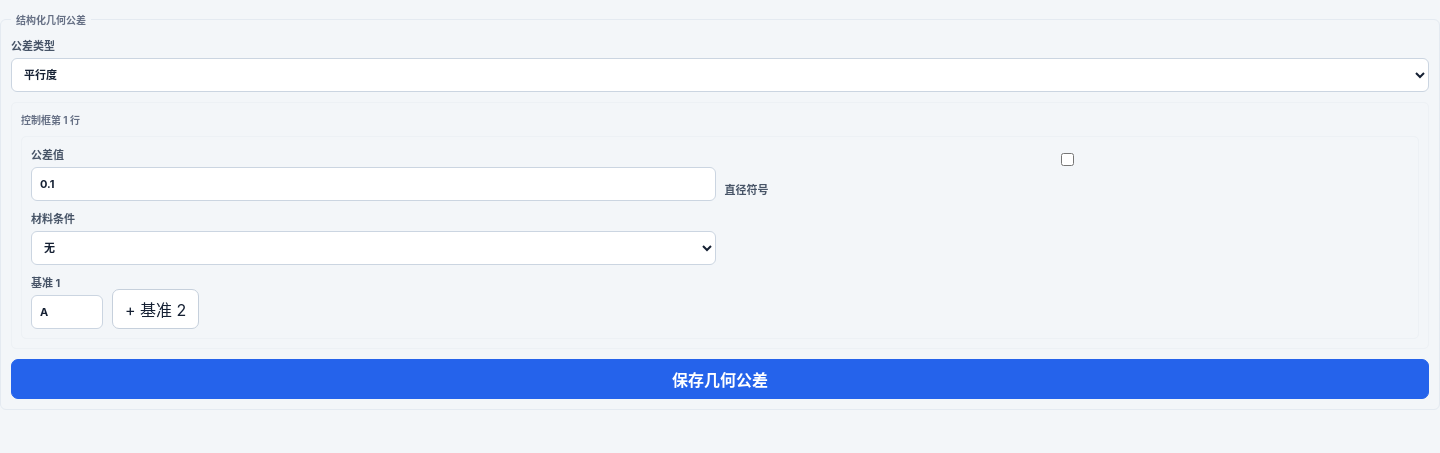
Test: rejects non-positive decimal before submitting
Replace the text in the field labelled "公差值" with "0" at [373, 184], box [31,167,716,201]
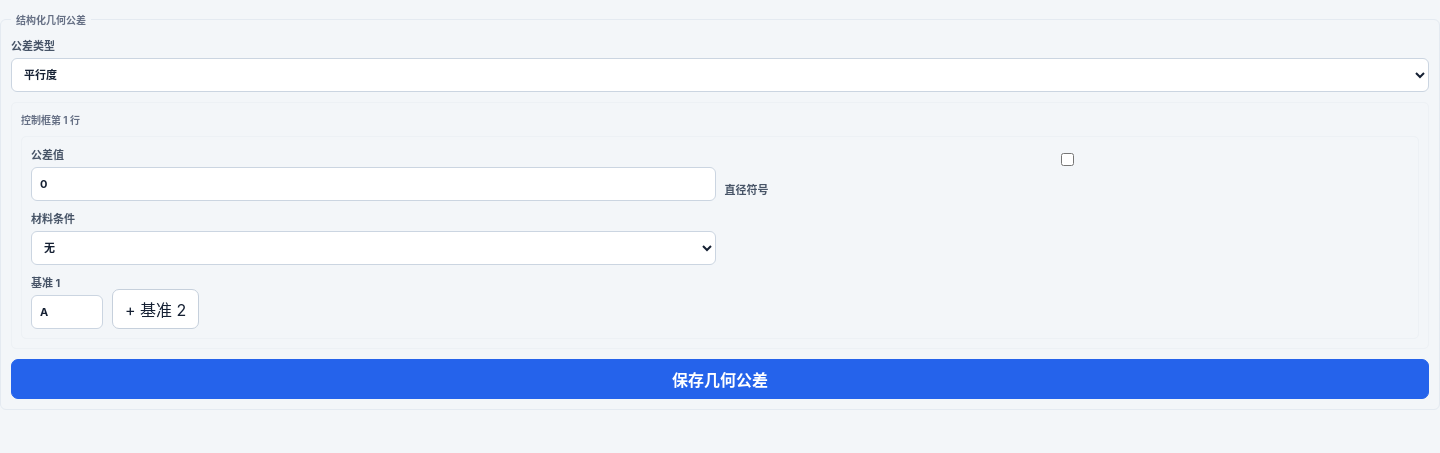
Click the button "保存几何公差".
click(720, 379)  # box [11,359,1429,399]
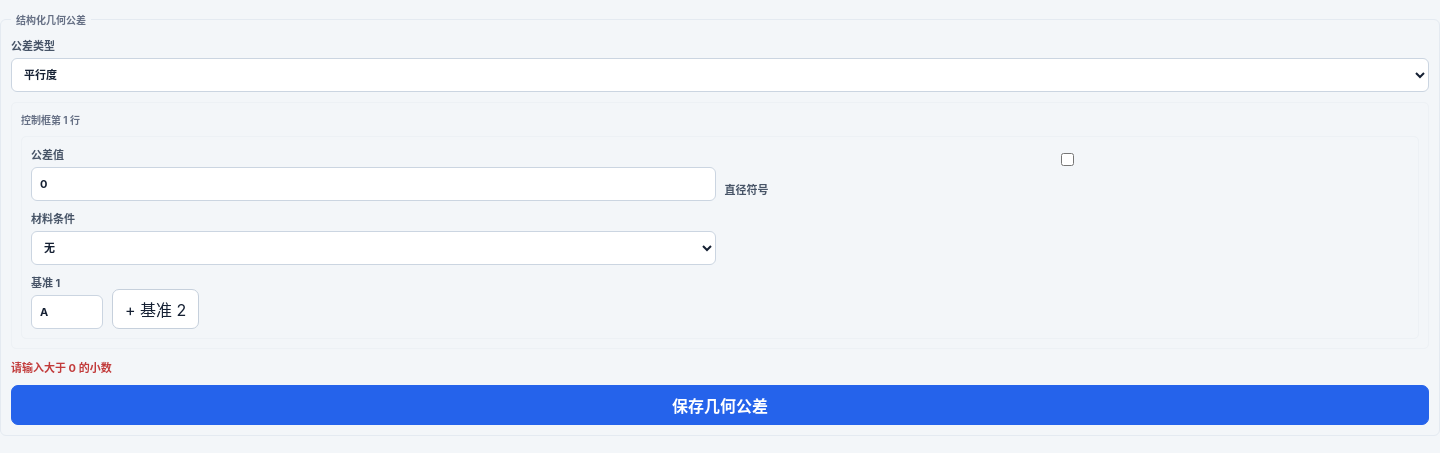
Result: the message reads "请输入大于 0 的小数" at [11,361,112,375]
